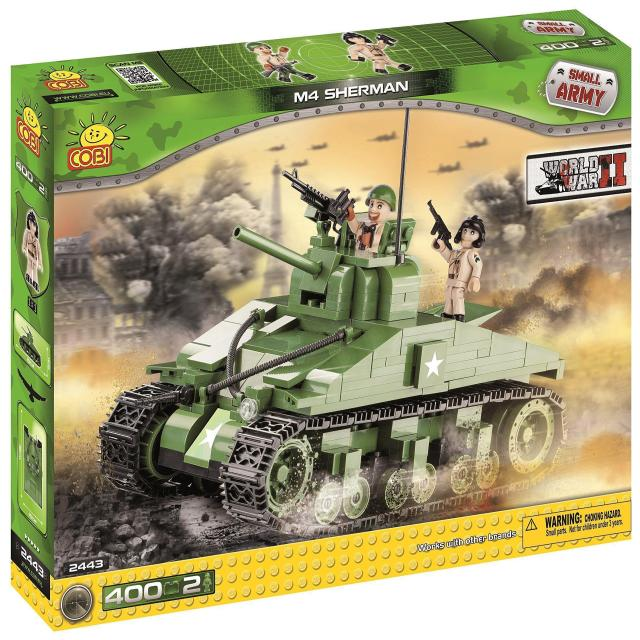Tanks: (101, 197, 553, 488)
